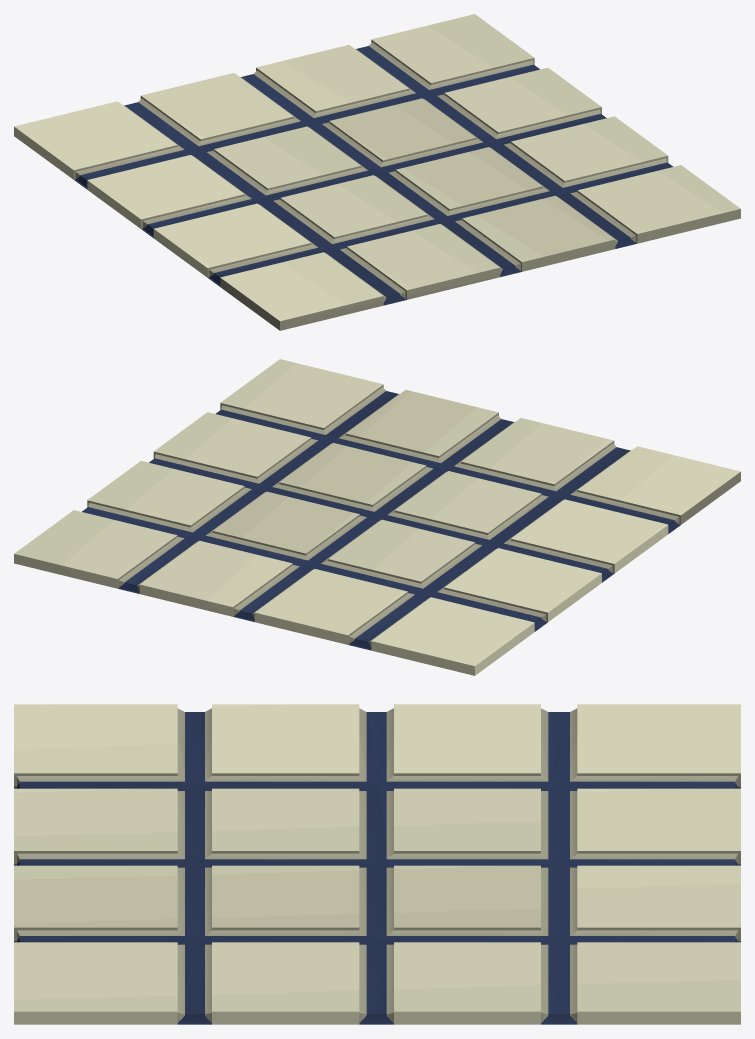
Rendered from SM_floorTileS.fbx.
3 renders of one model, top to bottom at view 1: azimuth 30°, elevation 25°; view 2: azimuth 150°, elevation 25°; view 3: azimuth 270°, elevation 25°, orthographic. The views are drawn at different scales.
Parts seen in each view (by area): view 1: SM_floor_tileS; view 2: SM_floor_tileS; view 3: SM_floor_tileS.
Boxes of the visible parts, left/top/right/bottom form: SM_floor_tileS: left=14, top=14, right=740, bottom=330; SM_floor_tileS: left=14, top=359, right=740, bottom=675; SM_floor_tileS: left=14, top=704, right=740, bottom=1024.
Size of the model in its own units: 500 by 10 by 500.
